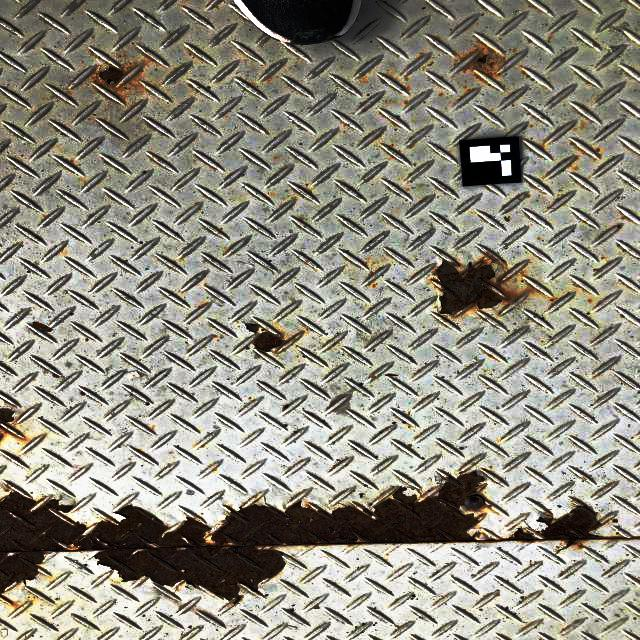Corrosion: (0, 473, 487, 598), (435, 244, 513, 317), (490, 497, 601, 546), (245, 323, 284, 352), (463, 51, 501, 78), (96, 63, 125, 86), (0, 407, 14, 425)
